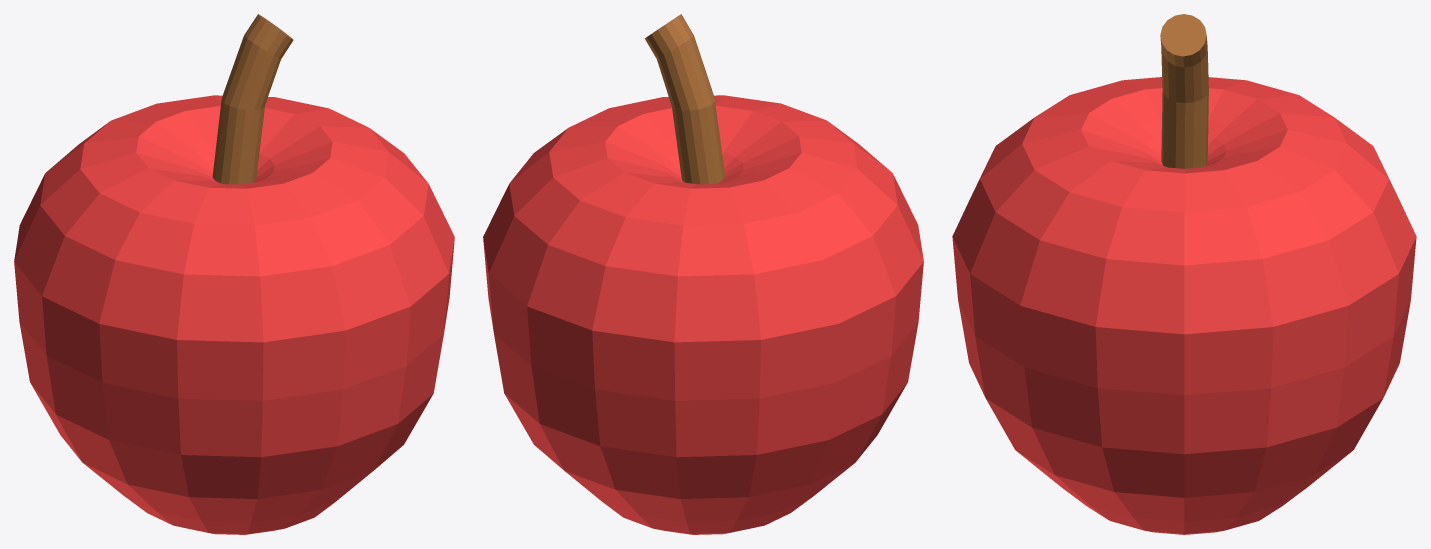
Rendered from apple.fbx.
3 views of the same model, side by side, from view 1: azimuth 30°, elevation 25°; view 2: azimuth 150°, elevation 25°; view 3: azimuth 270°, elevation 25° (orthographic). The views are drawn at different scales.
Parts seen in each view (by area): view 1: Apple; view 2: Apple; view 3: Apple.
Part boxes in pixels (x1,y1,x2,y2): Apple: [14, 14, 454, 534]; Apple: [483, 14, 923, 534]; Apple: [952, 14, 1416, 534].
Bounding box in the file's own units: 16.67 × 20.04 × 16.67.
